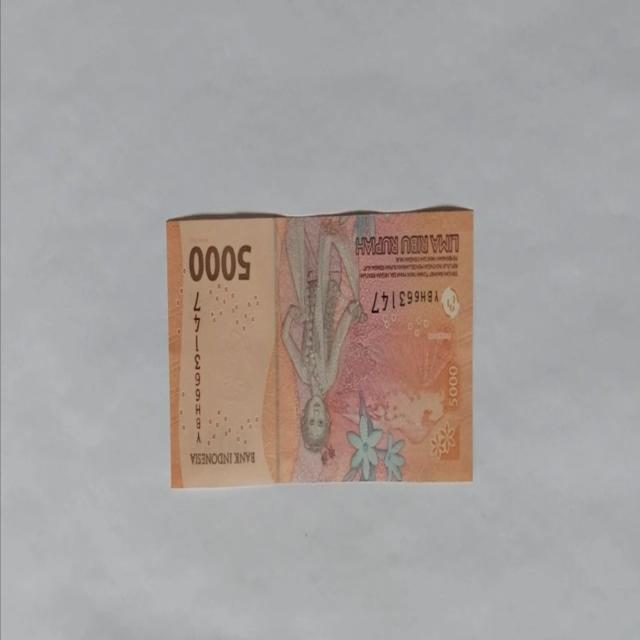lima ribu rupiah: (165, 204, 475, 488)
